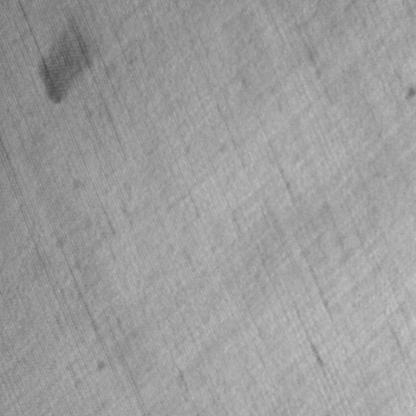oil spot: (35, 13, 95, 108)
